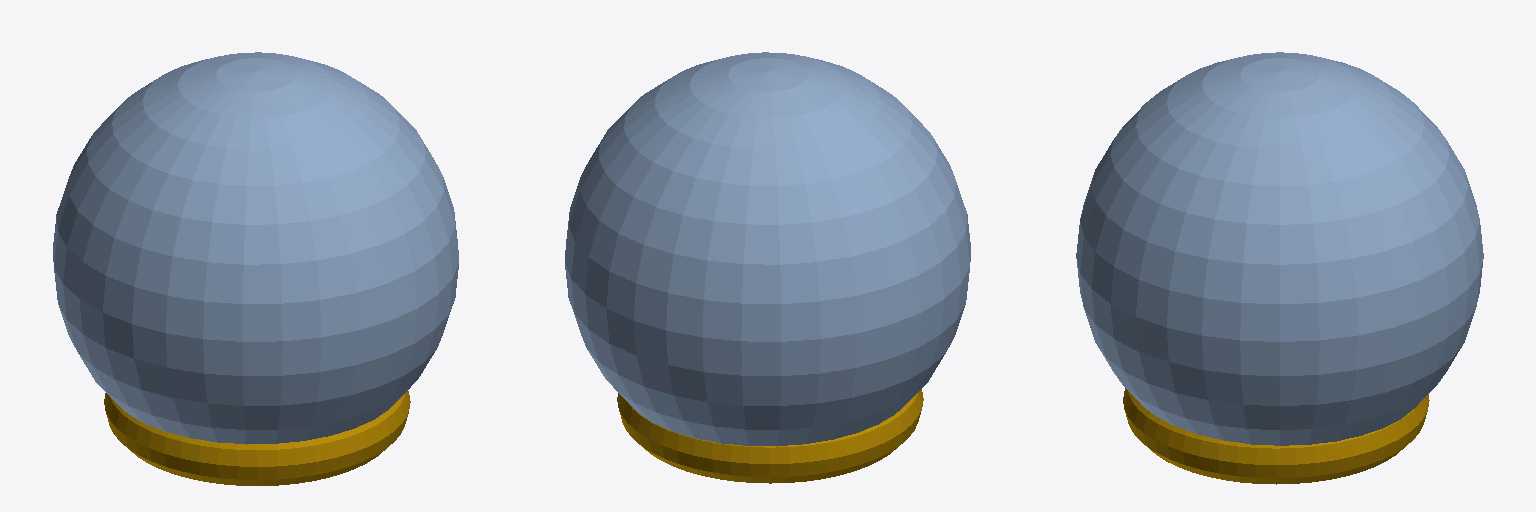
File: sunsetmonorail.obj
3 renders of one model, left to right at view 1: azimuth 30°, elevation 25°; view 2: azimuth 150°, elevation 25°; view 3: azimuth 270°, elevation 25°, orthographic.
Visible parts, largest first — view 1: Sphere, Torus; view 2: Sphere, Torus; view 3: Sphere, Torus.
Boxes of the visible parts, <box> form: Sphere: <box>53,52,458,444</box>; Torus: <box>104,391,410,485</box>; Sphere: <box>565,52,970,446</box>; Torus: <box>617,389,923,483</box>; Sphere: <box>1076,52,1483,445</box>; Torus: <box>1123,388,1429,484</box>.
Bounding box in the file's own units: 980 × 980 × 980.